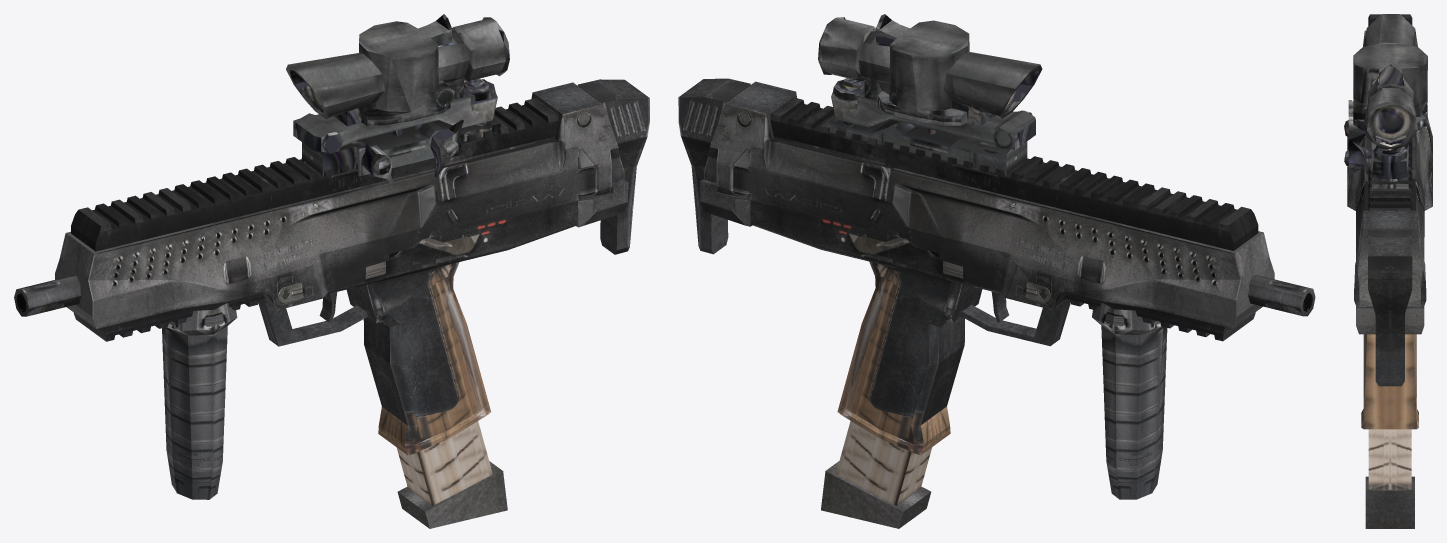
Rendered from w_stcpw_susat.obj.
3 views of the same model, side by side, from view 1: azimuth 30°, elevation 25°; view 2: azimuth 150°, elevation 25°; view 3: azimuth 270°, elevation 25° (orthographic). The views are drawn at different scales.
Parts seen in each view (by area): view 1: Cube_Cube.001, W_Susat; view 2: Cube_Cube.001, W_Susat; view 3: Cube_Cube.001, W_Susat.
Boxes of the visible parts, left/top/right/bottom form: Cube_Cube.001: left=14, top=79, right=649, bottom=528; W_Susat: left=286, top=14, right=509, bottom=187; Cube_Cube.001: left=678, top=78, right=1315, bottom=528; W_Susat: left=818, top=14, right=1042, bottom=175; Cube_Cube.001: left=1347, top=14, right=1432, bottom=528; W_Susat: left=1344, top=14, right=1427, bottom=188.
Size of the model in its own units: 8.79 by 6.78 by 1.24.
